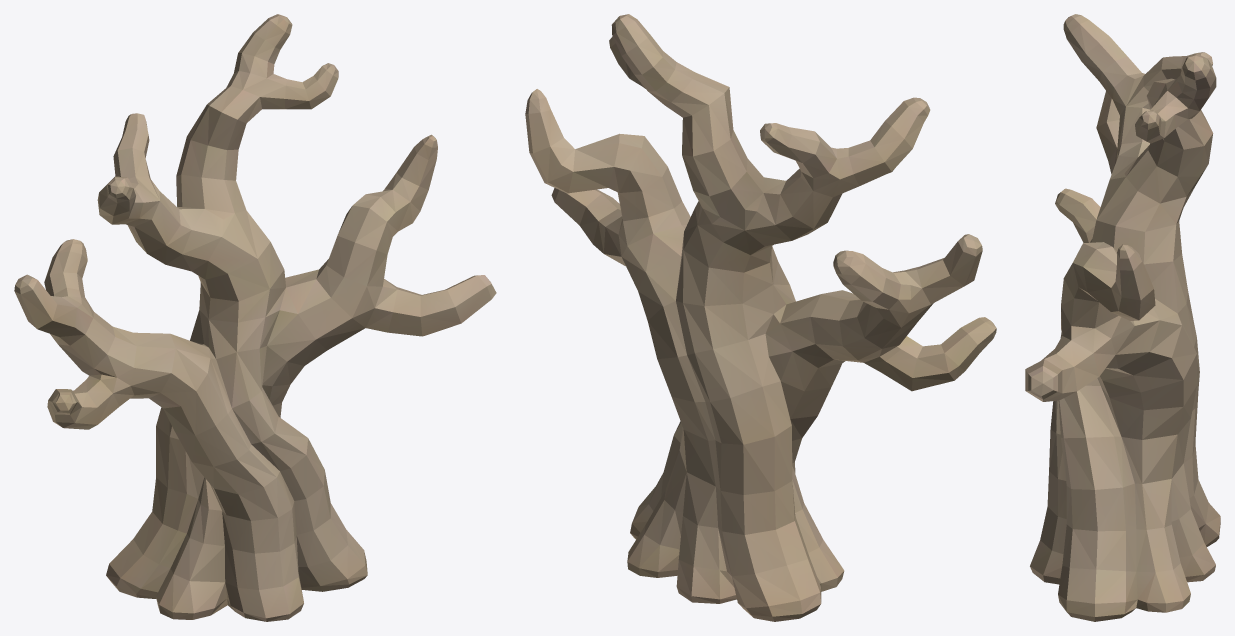
The model's file is oak_dead.glb.
3 views of the same model, side by side, from view 1: azimuth 30°, elevation 25°; view 2: azimuth 150°, elevation 25°; view 3: azimuth 270°, elevation 25° (orthographic). The views are drawn at different scales.
Visible parts, largest first — view 1: geometry_0; view 2: geometry_0; view 3: geometry_0.
Part boxes in pixels (bbox=[...]): geometry_0: bbox=[14, 14, 496, 621]; geometry_0: bbox=[525, 14, 996, 621]; geometry_0: bbox=[1025, 14, 1220, 621].
Size of the model in its own units: 0.1738 by 0.2012 by 0.0645.
